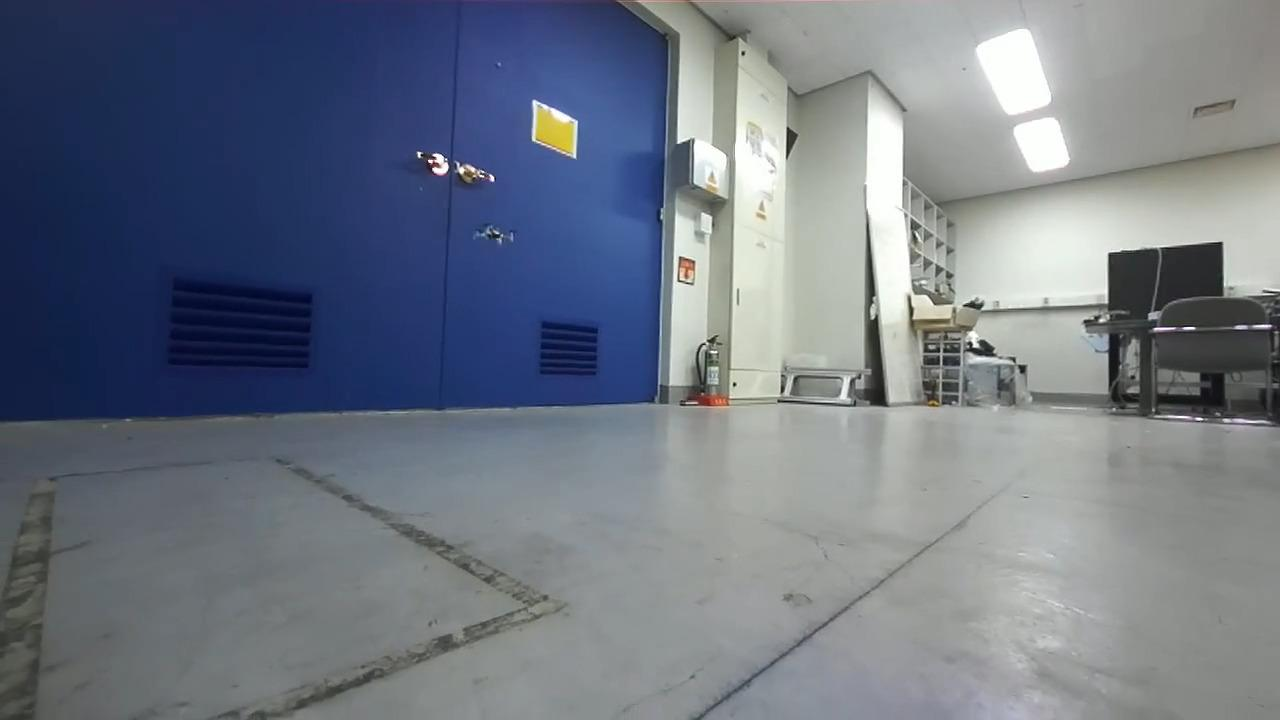crazyflie: (469, 221, 519, 251)
